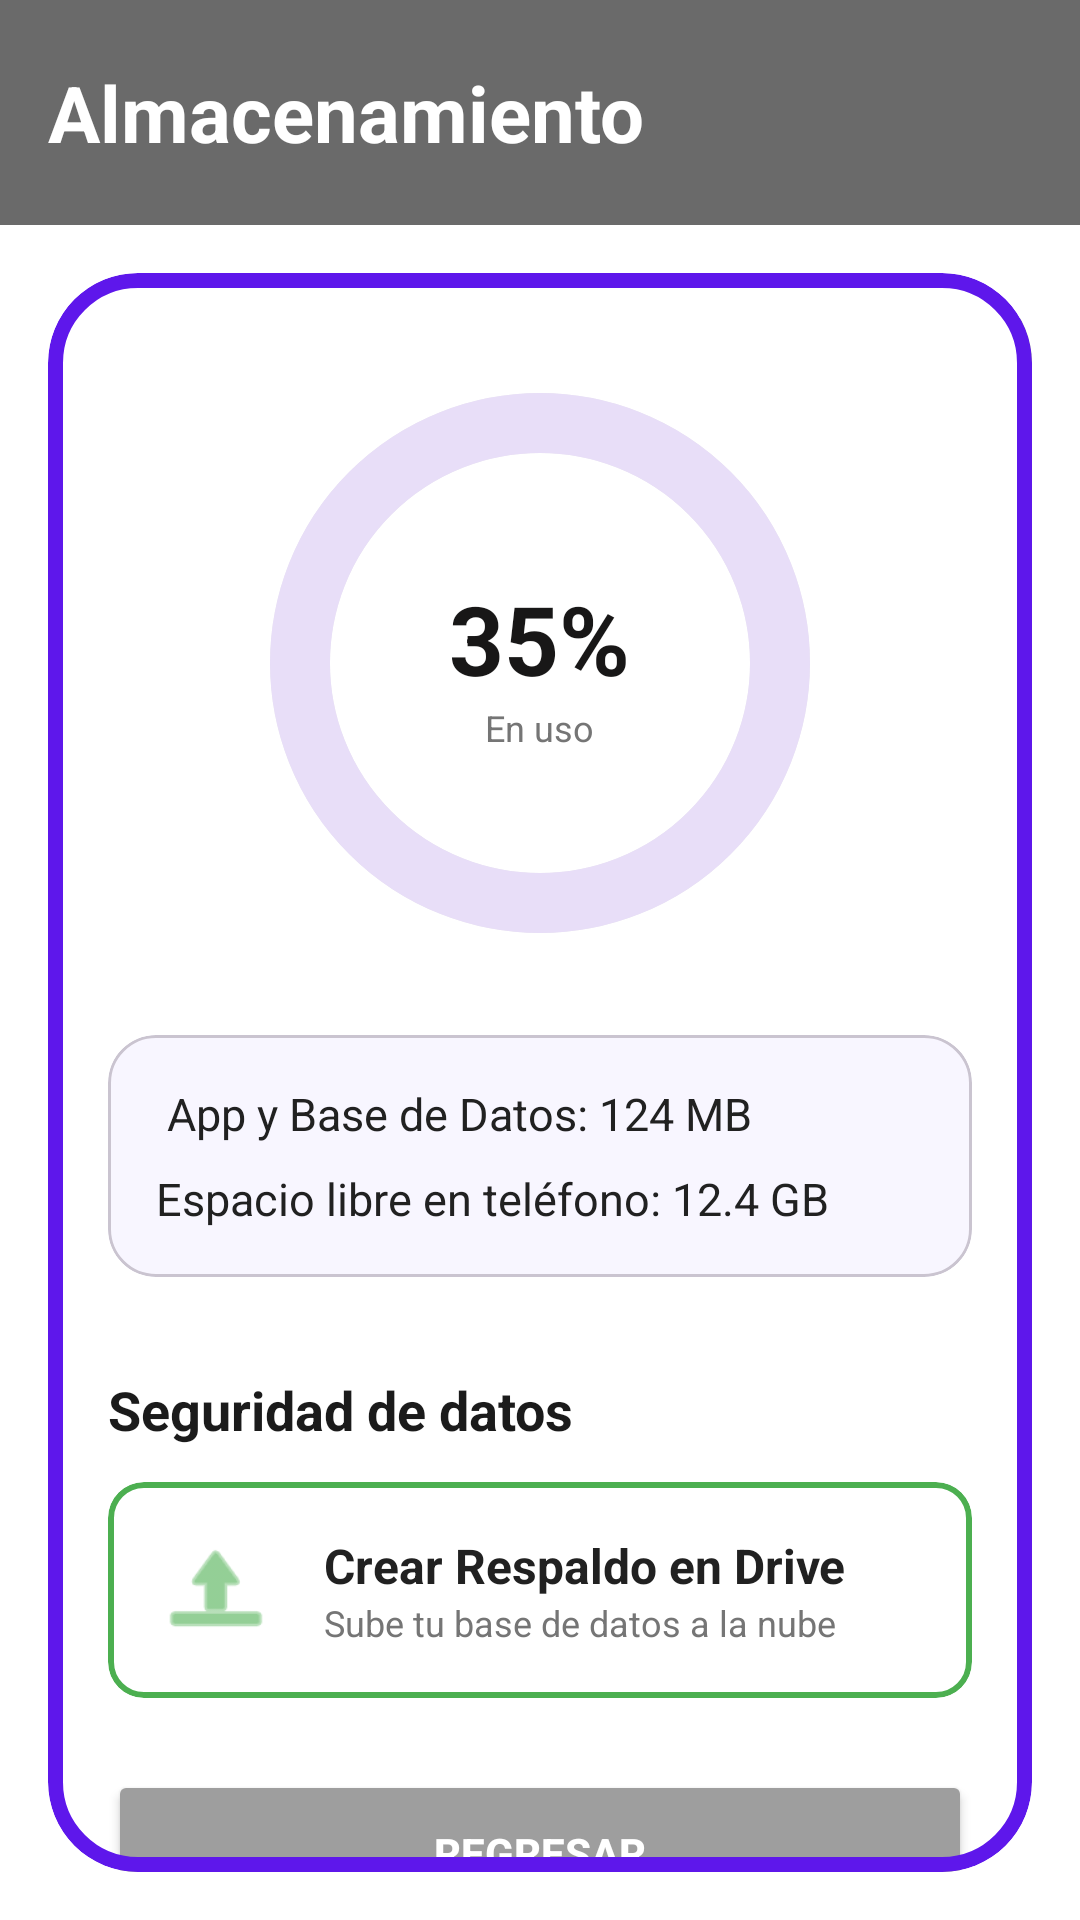

Icons on this 1080*1920 Android screen, each with the point to tap as [x,y]:
upload: [216,1588]
